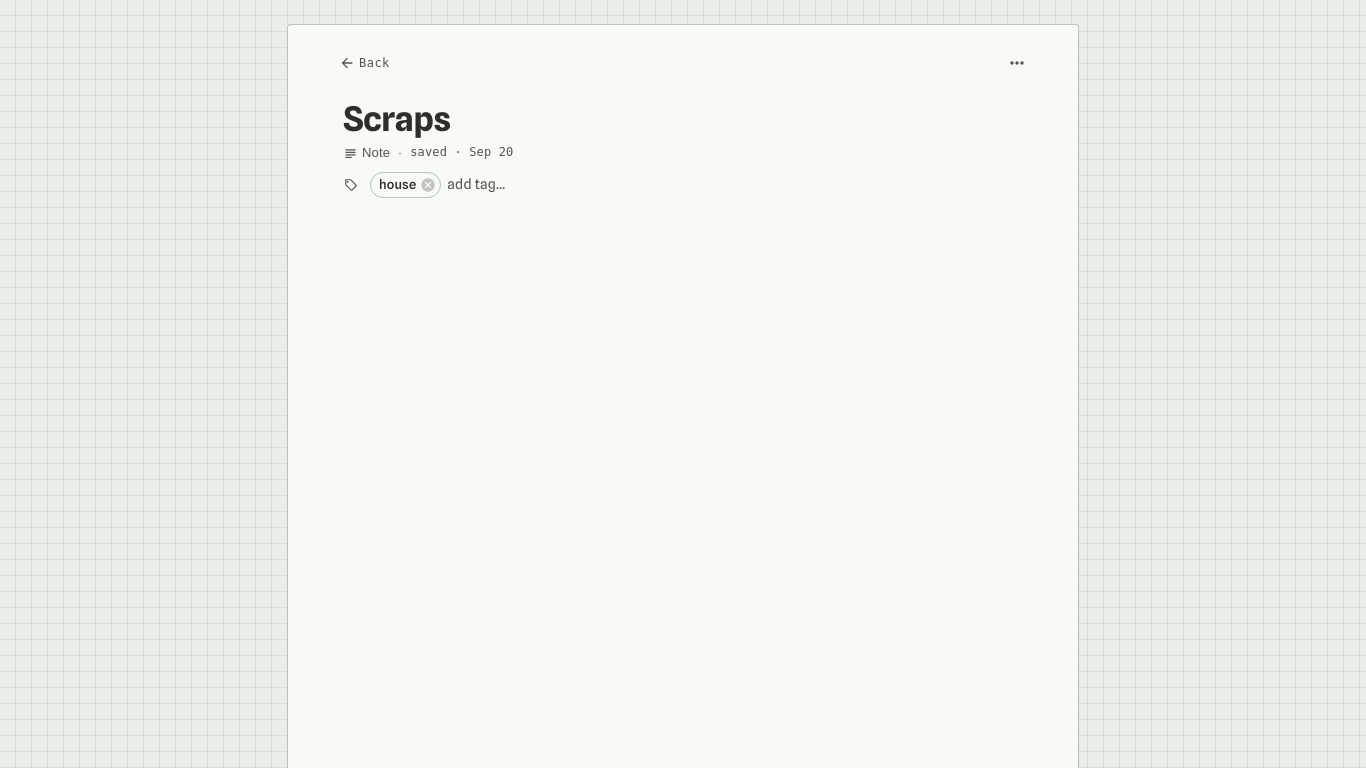
Test: composing a note › sends the note text and shows what came back
Click the button named "More note actions".
click(1017, 63)  # box [1001,47,1033,79]
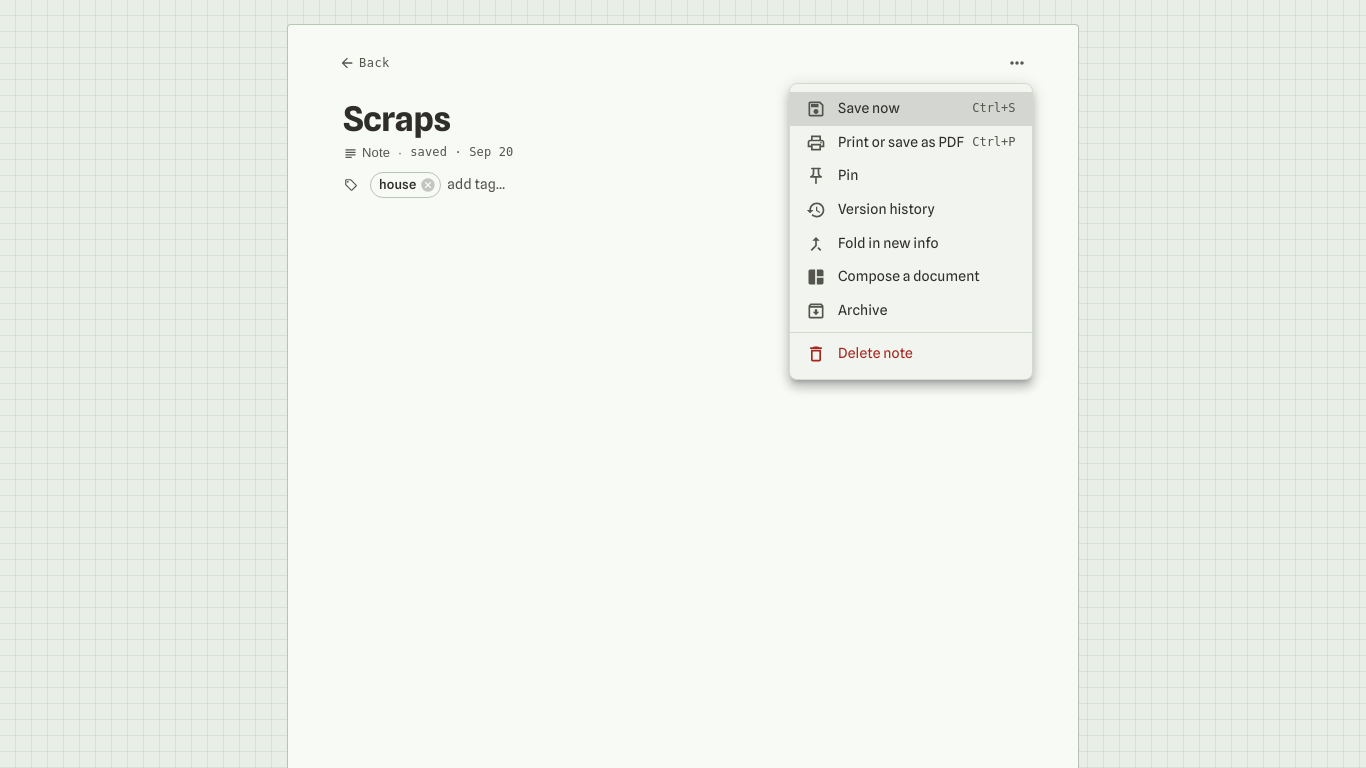
Click the menu item with aria-label "Compose a document from this note".
click(893, 277)  # box [806,267,980,287]
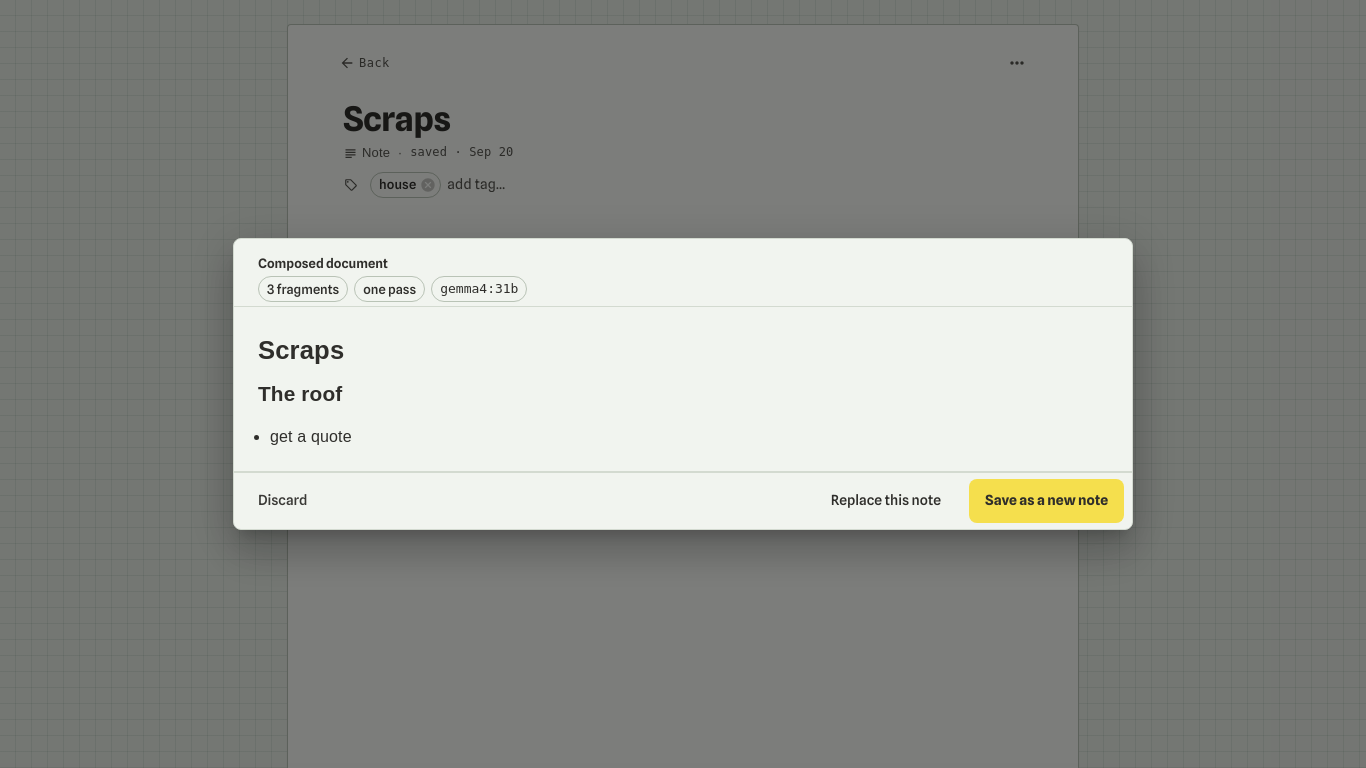
Expected: the button "Save as a new note" is shown, [969,479,1124,523]
Expected: the heading "The roof" is shown, [258,382,342,404]
